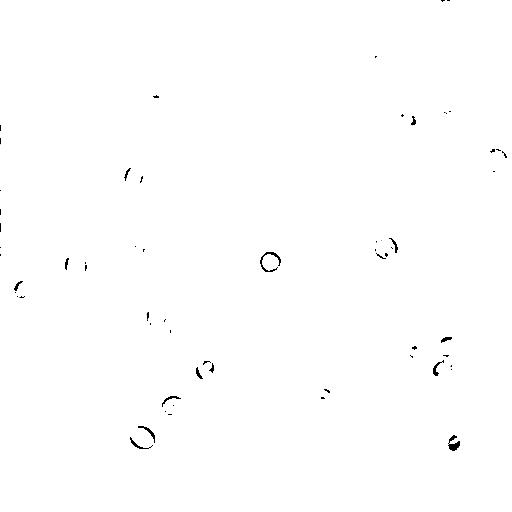micro-algae: (165, 425, 291, 511), (402, 322, 469, 387), (2, 361, 39, 430), (6, 9, 45, 45), (310, 301, 348, 333), (51, 327, 80, 364), (1, 217, 21, 264), (62, 252, 89, 284), (481, 147, 508, 177), (128, 424, 158, 451), (143, 301, 169, 331), (373, 235, 400, 261), (258, 250, 283, 275), (159, 394, 186, 417), (124, 163, 146, 190), (167, 323, 192, 346), (434, 98, 462, 118), (438, 335, 461, 358), (13, 278, 37, 299), (195, 358, 216, 382), (406, 344, 431, 364), (398, 107, 417, 133), (430, 360, 453, 380), (362, 38, 379, 65), (129, 241, 148, 261), (1, 124, 19, 143), (446, 433, 463, 453), (74, 499, 97, 512), (313, 386, 333, 400), (139, 0, 165, 10), (438, 1, 458, 6)
